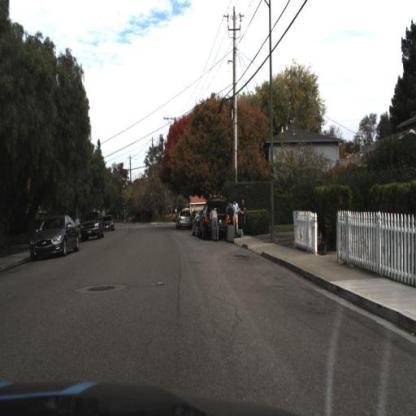car: (27, 211, 83, 266), (30, 214, 82, 259), (194, 194, 231, 245), (79, 208, 106, 248)
pedestrian: (206, 204, 221, 247), (239, 198, 249, 241), (226, 203, 237, 235), (233, 200, 241, 234), (226, 200, 234, 230)
